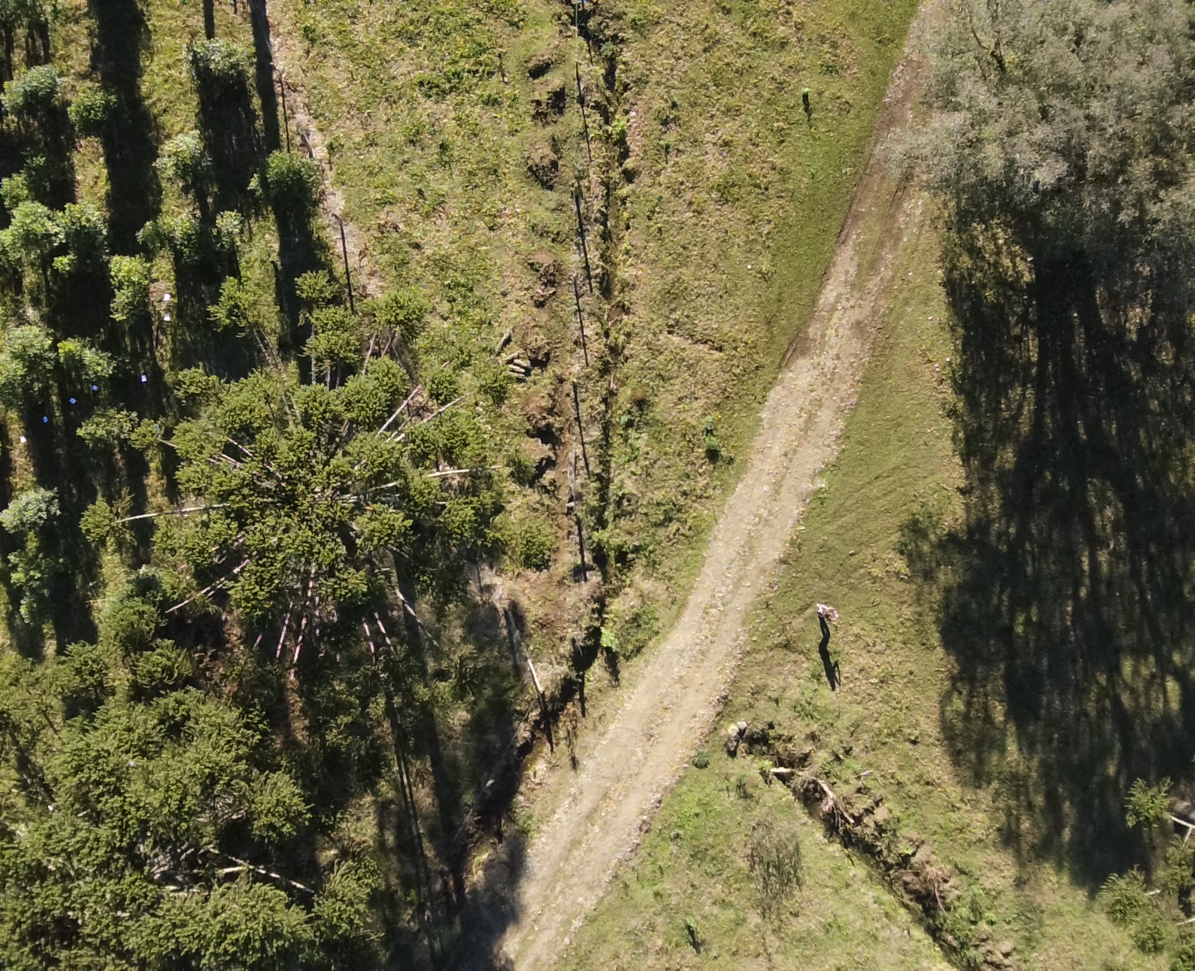erva: (248, 143, 332, 206), (183, 25, 258, 90), (3, 201, 58, 272), (152, 131, 220, 182), (68, 75, 122, 139), (0, 479, 64, 527), (151, 203, 208, 256), (6, 62, 57, 111), (216, 200, 264, 252), (73, 344, 125, 391), (107, 245, 157, 286), (66, 201, 106, 251), (100, 293, 158, 327), (0, 362, 42, 406), (10, 326, 52, 365), (0, 160, 35, 202), (10, 591, 46, 630), (3, 553, 42, 587), (60, 332, 90, 370), (1, 530, 52, 547), (48, 255, 80, 282), (33, 555, 68, 578)
